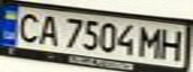0: (97, 20, 118, 54)
4: (115, 22, 139, 56)
5: (78, 17, 100, 52)
7: (60, 16, 84, 50)
A: (33, 12, 63, 46)
C: (9, 10, 45, 44)
H: (157, 27, 187, 61)
M: (136, 25, 166, 58)
